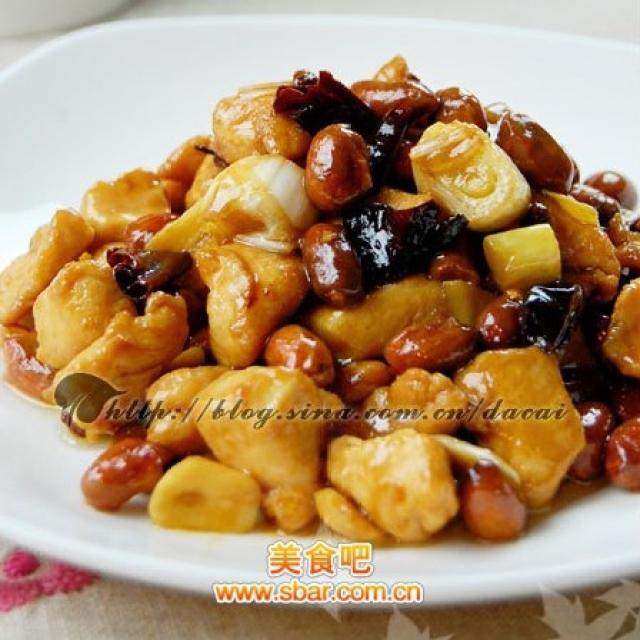鸡肉料理 含炸鸡: (20, 53, 621, 565)
